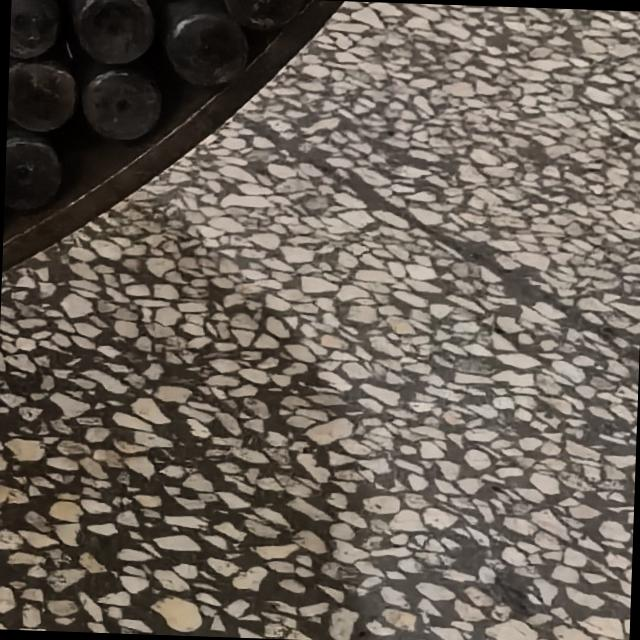tool: (162, 0, 252, 84), (82, 70, 162, 142), (69, 0, 154, 65), (6, 62, 80, 132), (4, 130, 61, 213), (9, 0, 59, 58), (213, 0, 308, 30)
